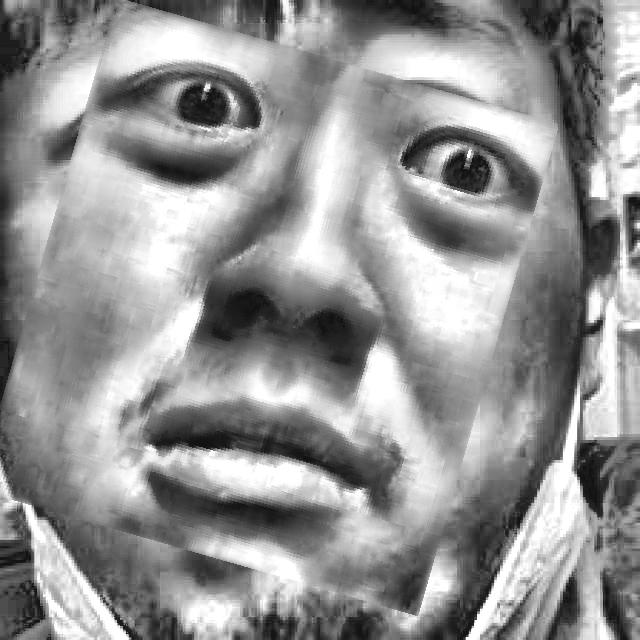fear: (6, 24, 528, 590)
